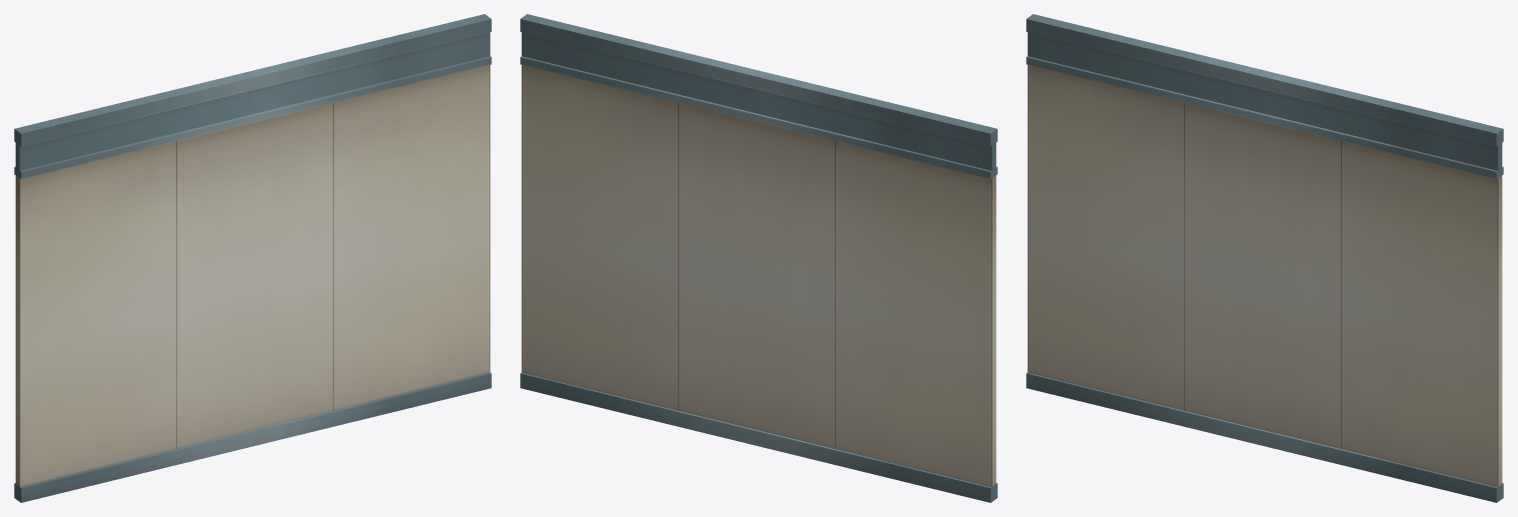
Rendered from Wall_01_01.fbx.
3 renders of one model, left to right at view 1: azimuth 30°, elevation 25°; view 2: azimuth 150°, elevation 25°; view 3: azimuth 330°, elevation 25°, orthographic.
Visible parts, largest first — view 1: wall_01_01; view 2: wall_01_01; view 3: wall_01_01.
Part boxes in pixels (x1=…): wall_01_01: x1=14, y1=14, x2=491, y2=502; wall_01_01: x1=520, y1=14, x2=997, y2=502; wall_01_01: x1=1026, y1=14, x2=1503, y2=502.
Bounding box in the file's own units: 400 × 300 × 10.
